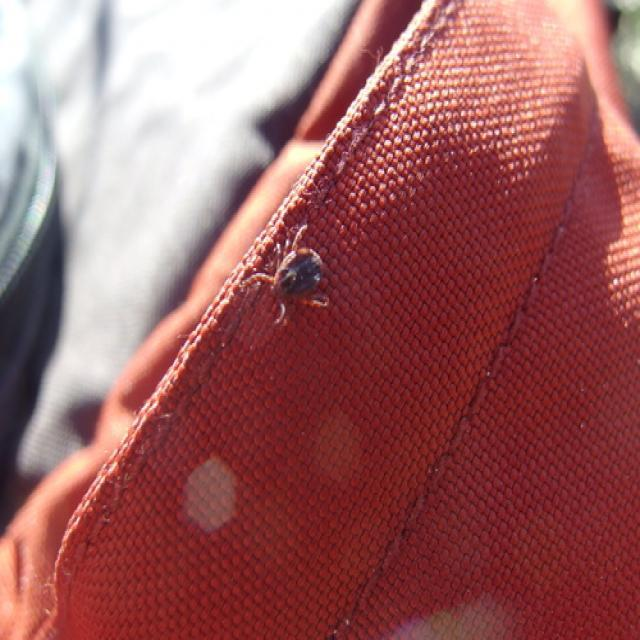Dermacentor Reticulatus-M: (239, 225, 329, 324)
